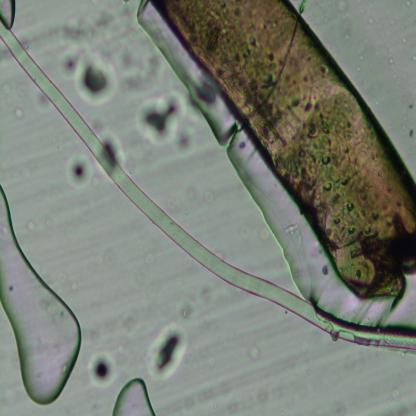Air bubble: (0, 186, 84, 407), (111, 377, 158, 416), (0, 0, 17, 29)
Background material: (160, 11, 416, 296), (58, 33, 126, 108), (133, 88, 195, 148), (43, 12, 149, 46), (147, 316, 187, 381), (88, 348, 117, 386), (66, 157, 92, 188), (201, 184, 217, 205), (253, 349, 267, 363), (13, 105, 24, 120), (335, 0, 349, 11), (27, 220, 38, 231), (402, 0, 412, 9), (409, 126, 416, 137), (367, 17, 375, 25), (411, 52, 416, 62), (390, 20, 397, 26), (404, 35, 408, 45), (345, 30, 349, 40), (360, 54, 364, 61), (390, 56, 394, 63)
Microfibre: (0, 18, 416, 348)
